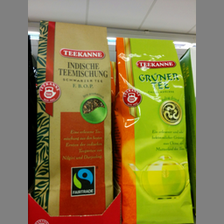tea: (34, 19, 114, 215), (115, 35, 196, 224)
